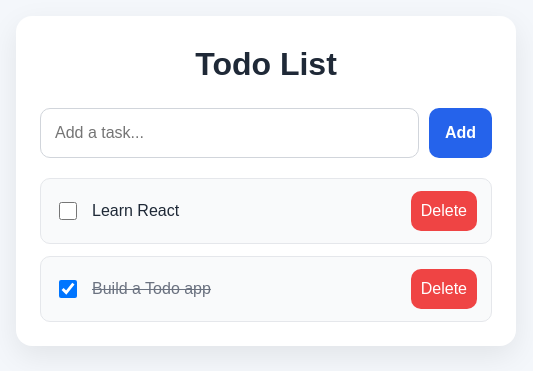
Test: Todo App › deletes a todo item
Expected: the text "Learn React" is shown, 92,199 -> 179,223
Click the button "Delete" in the row of "Learn React".
click(444, 211)  # box 411,191 -> 477,231
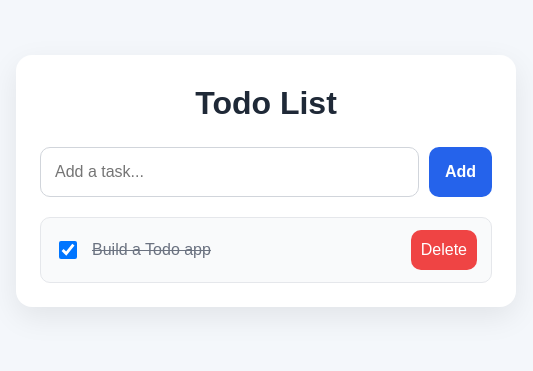
Expected: the text "Learn React" is gone
